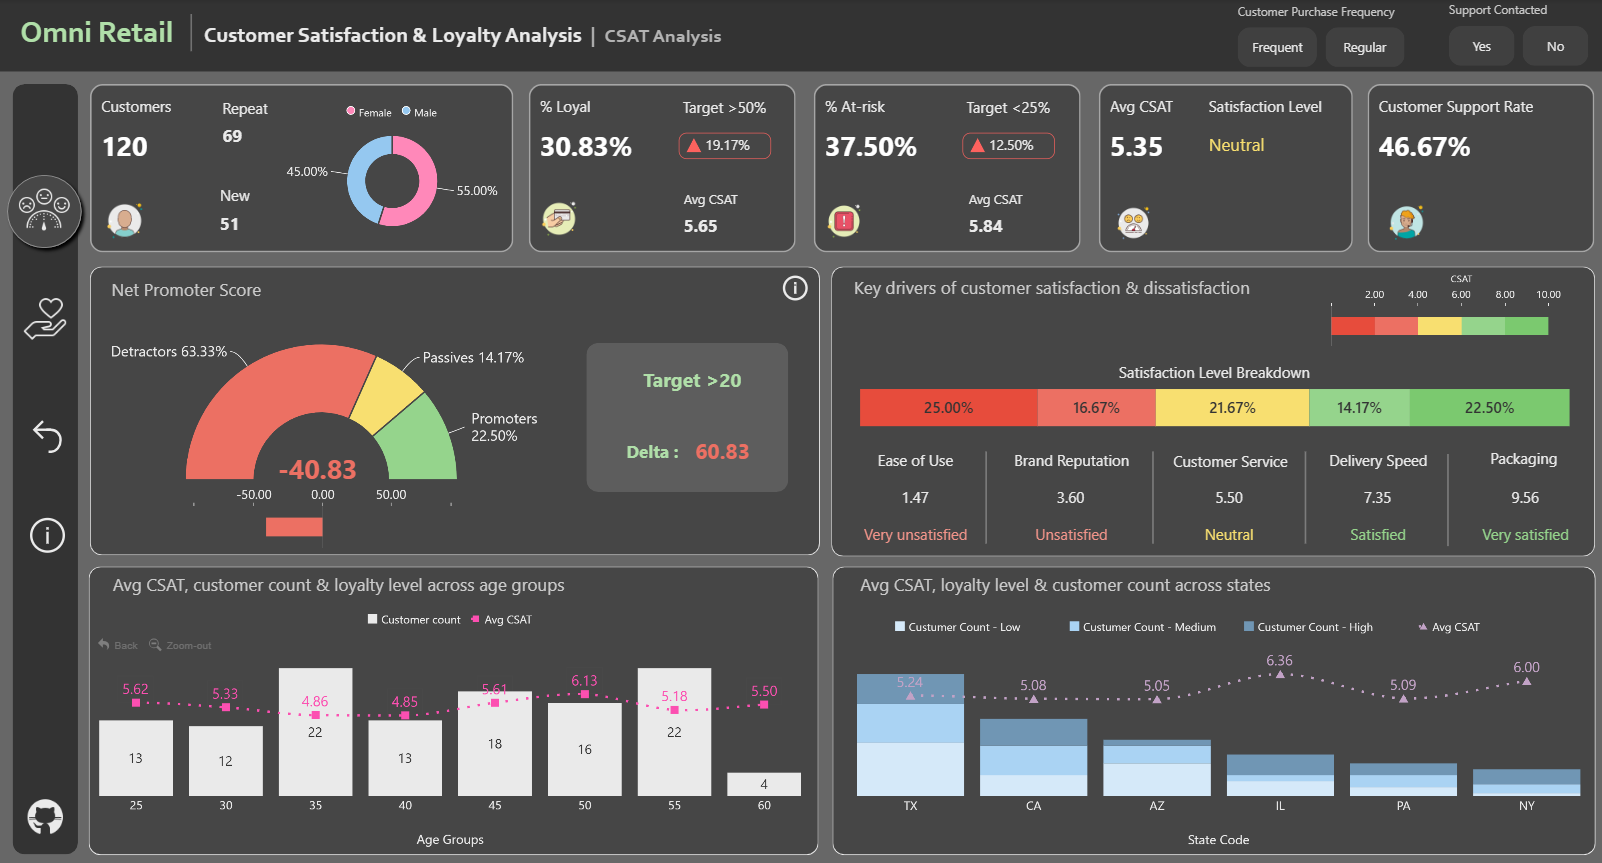

The page's visual inventory and layout, read from the dashboard file:
{"tool":"powerbi","page":{"name":"CSAT Analysis","canvas":[1920,1080],"ordinal":0},"visuals":[{"type":"shape","title":"Header","box":[0,0,1920,90],"z":0},{"type":"cardVisual","fields":{"Data":["_KPIs.avg_statisfaction_score"]},"box":[1278.4,105.7,317.9,210],"z":0,"group":"g7"},{"type":"cardVisual","title":"Customer Support Rate ","fields":{"Data":["_KPIs.customer_support_rate"]},"box":[1614.6,105.7,283.6,210],"z":0,"group":"g13"},{"type":"cardVisual","fields":{"Data":["_KPIs.customer_count"]},"box":[20.3,105.8,528.3,210],"z":0,"group":"g1"},{"type":"cardVisual","fields":{"Data":["_KPIs.at-risk %"]},"box":[923.3,105.9,333.3,210],"z":0,"group":"g6"},{"type":"cardVisual","fields":{"Data":["_KPIs.loyal %"]},"box":[568.6,106.2,333.3,210],"z":0,"group":"g3"},{"type":"textbox","box":[1108.1,117.6,125,45],"z":0,"group":"g2"},{"type":"textbox","box":[755.6,117.9,125,45],"z":0,"group":"g4"},{"type":"shape","box":[945.9,332.7,952.5,361.7],"z":0,"group":"g10"},{"type":"shape","box":[20.4,333.6,910.3,360.1],"z":0,"group":"g9"},{"type":"cardVisual","fields":{"Data":["Min(Customer Satisfaction.Satisfaction_Factor)"]},"box":[963.5,535,175.2,69.5],"z":0,"group":"g8"},{"type":"shape","box":[1117.5,564.1,43.4,114.8],"z":0,"group":"g5"},{"type":"shape","box":[20,706.7,910,360],"z":0,"group":"g11"},{"type":"shape","box":[946.7,706.7,951.7,360],"z":0,"group":"g12"},{"type":"textbox","title":"Omni Retail","box":[20,13.3,276.7,65],"z":1000},{"type":"cardVisual","fields":{"Data":["_KPIs.Avg_Satisfaction_Level"]},"box":[1415.1,105.7,180,103.3],"z":1000,"group":"g7"},{"type":"card","fields":{"Values":["_KPIs.at-risk target display"]},"box":[1108.1,166.8,115.5,32.7],"z":1000,"group":"g2"},{"type":"card","fields":{"Values":["_KPIs.loyalty target display"]},"box":[755.6,168.5,115.5,32.7],"z":1000,"group":"g4"},{"type":"cardVisual","fields":{"Data":["_KPIs.new_cust_count"]},"box":[165.1,212.5,120,98.3],"z":1000,"group":"g1"},{"type":"cardVisual","fields":{"Data":["_KPIs.at-risk_avg_csat"]},"box":[1099.5,222,116.7,88.3],"z":1000,"group":"g6"},{"type":"cardVisual","fields":{"Data":["_KPIs.loyal_avg_satisfaction"]},"box":[745.1,222.3,116.7,88.3],"z":1000,"group":"g3"},{"type":"image","box":[1622,246.2,80,63.3],"z":1000,"group":"g13"},{"type":"ZoomChartsPieChartPaidE77E4ED357DC402ABA005987437CF500","fields":{"Values":["_KPIs.customer_count"],"Category":["Customer Category.Customer Category"],"tooltipContent":["All Measures.avg_statisfaction_score"]},"box":[20.3,355,576.8,320.5],"z":1000,"group":"g9"},{"type":"hundredPercentStackedBarChart","fields":{"Y":["_KPIs.customer_count"],"Series":["satisfaction_order.satisfaction_level"]},"box":[977.1,410.6,894.8,191.7],"z":1000,"group":"g10"},{"type":"cardVisual","fields":{"Data":["Min(Customer Satisfaction.Satisfaction_Factor)"]},"box":[1143.7,535,203.5,69.5],"z":1000,"group":"g8"},{"type":"shape","box":[1326,564.1,41.7,114.8],"z":1000,"group":"g5"},{"type":"ZoomChartsFacetChartPaidE77E4ED357DC402ABA005987437CF500","fields":{"Values1":["_KPIs.customer_count"],"Category":["Customer Satisfaction.Age (bins)","Loyalty Level.Loyalty level"],"Values2":["_KPIs.avg_statisfaction_score"],"tooltipContent":["_KPIs.avg_statisfaction_score"]},"box":[18.3,755.6,905,306.7],"z":1000,"group":"g11"},{"type":"ZoomChartsFacetChartPaidE77E4ED357DC402ABA005987437CF500","fields":{"Values1":["_KPIs.customer_count"],"Category":["Location.State"],"Values2":["_KPIs.avg_statisfaction_score"],"Legend":["Loyalty Level.Loyalty level"],"tooltipContent":["_KPIs.avg_statisfaction_score"]},"box":[961.7,765,931.7,298.3],"z":1000,"group":"g12"},{"type":"group","id":"g1","title":"Customer","box":[20.3,105.5,528.3,210.3],"z":2000},{"type":"cardVisual","fields":{"Data":["_KPIs.repeat_cust_count"]},"box":[168.6,105.5,116.4,89.1],"z":2000,"group":"g1"},{"type":"group","id":"g2","title":"Target group","box":[1108.1,117.6,125,81.9],"z":2000,"group":"g6"},{"type":"shape","box":[764.7,173.9,19.1,18.2],"z":2000,"group":"g4"},{"type":"shape","box":[1117.2,174.1,19.1,18.2],"z":2000,"group":"g2"},{"type":"image","box":[575.3,237.9,63.3,75],"z":2000,"group":"g3"},{"type":"image","box":[1285.7,248.4,71.2,60],"z":2000,"group":"g7"},{"type":"textbox","box":[1284.4,447,279,39],"z":2000,"group":"g10"},{"type":"cardVisual","fields":{"Data":["Min(Customer Satisfaction.Satisfaction_Factor)"]},"box":[1356.9,535,176,71],"z":2000,"group":"g8"},{"type":"shape","box":[1516.2,564.1,41.7,114.8],"z":2000,"group":"g5"},{"type":"textbox","box":[976.7,710,620,65],"z":2000,"group":"g12"},{"type":"textbox","box":[32,710.4,606.7,65],"z":2000,"group":"g11"},{"type":"group","id":"g3","title":"Loyal %","box":[568.6,106.2,333.3,210],"z":3000},{"type":"group","id":"g4","title":"Target group","box":[755.6,117.9,125,83.3],"z":3000,"group":"g3"},{"type":"image","box":[32,237.9,65,76.7],"z":3000,"group":"g1"},{"type":"image","box":[930.3,246.2,63.3,61.7],"z":3000,"group":"g6"},{"type":"textbox","box":[42.6,343,368.4,56.9],"z":3000,"group":"g9"},{"type":"cardVisual","fields":{"Data":["Min(Customer Satisfaction.Satisfaction_Factor)"]},"box":[1542.3,535,173.5,69.5],"z":3000,"group":"g8"},{"type":"group","id":"g5","title":"Vertical Lines","box":[1117.5,564.1,618.9,117.8],"z":3000,"group":"g10"},{"type":"shape","box":[1694.7,567.1,41.7,114.8],"z":3000,"group":"g5"},{"type":"group","id":"g6","title":"At-risk","box":[923.3,105.9,333.3,210],"z":4000},{"type":"ZoomChartsPieChartPaidE77E4ED357DC402ABA005987437CF500","fields":{"Values":["_KPIs.customer_count"],"Category":["Customer Demographics.Gender"]},"box":[257,122.9,280,180],"z":4000,"group":"g1"},{"type":"textbox","box":[969.6,338.9,585.5,67.8],"z":4000,"group":"g10"},{"type":"cardVisual","fields":{"Data":["Min(Customer Satisfaction.Satisfaction_Factor)"]},"box":[1728,535,165.3,65.4],"z":4000,"group":"g8"},{"type":"ZoomChartsDrillDownComboBarProE77E4ED357DC402ABA005987437CF8","fields":{"Values1":["_KPIs.NPS"]},"box":[113.3,603,373.4,87],"z":4000,"group":"g9"},{"type":"group","id":"g7","title":"Avg CSAT","box":[1278.4,105.7,317.9,210],"z":5000},{"type":"group","id":"g8","title":"Satisfaction Factor","box":[963.5,535,932.5,158.8],"z":5000,"group":"g10"},{"type":"card","fields":{"Values":["_KPIs.NPS"]},"box":[237,550,135,70.6],"z":5000,"group":"g9"},{"type":"cardVisual","fields":{"Data":["_KPIs.avg_statisfaction_score"]},"box":[1729.2,583,166.8,64.3],"z":5000,"group":"g8"},{"type":"image","box":[622,438,280.6,227.6],"z":5500,"group":"g9"},{"type":"group","id":"g9","title":"NPS","box":[20.3,333.6,910.4,360.1],"z":6000},{"type":"textbox","box":[963.5,648.6,176.8,45.2],"z":6000,"group":"g8"},{"type":"group","id":"g10","title":"Satisfaction group","box":[945.9,332.7,952.5,361.7],"z":7000},{"type":"textbox","box":[1143.7,648.6,203.5,45.2],"z":7000,"group":"g8"},{"type":"shape","title":"Grey divider","box":[245,21.7,43.3,46.7],"z":8000},{"type":"textbox","box":[1352.2,648.6,181.8,45.2],"z":8000,"group":"g8"},{"type":"textbox","title":"Report Title","box":[283.3,21.7,825,56.7],"z":9000},{"type":"textbox","box":[1542.3,648.6,173.5,45.2],"z":9000,"group":"g8"},{"type":"actionButton","title":"Info","box":[1835,23.3,65,50],"z":10000},{"type":"textbox","box":[1729.2,648.6,166.8,45.2],"z":10000,"group":"g8"},{"type":"actionButton","title":"Reset","box":[1756.7,23.3,63.3,46.7],"z":11000},{"type":"cardVisual","fields":{"Data":["_KPIs.avg_statisfaction_score"]},"box":[1540.7,583,175.2,64.3],"z":11000,"group":"g8"},{"type":"advancedSlicerVisual","title":"Customer Purchase Frequency","fields":{"Values":["Customer Satisfaction.Purchase_Frequency"]},"box":[1140.1,4.9,282.2,78.3],"z":12000},{"type":"cardVisual","fields":{"Data":["_KPIs.avg_statisfaction_score"]},"box":[1350.5,583,185.2,64.3],"z":12000,"group":"g8"},{"type":"cardVisual","fields":{"Data":["_KPIs.avg_statisfaction_score"]},"box":[1143.7,583,201.8,64.3],"z":13000,"group":"g8"},{"type":"group","id":"g11","title":"Avg CSAT-Age Groups","box":[18.3,706.7,911.7,360],"z":13000},{"type":"cardVisual","fields":{"Data":["_KPIs.avg_statisfaction_score"]},"box":[963.5,583,175.2,64.3],"z":14000,"group":"g8"},{"type":"group","id":"g12","title":"Loyalty-State","box":[946.7,706.7,951.7,360],"z":14000},{"type":"group","id":"g13","title":"Customer Support Rate","box":[1614.6,105.7,283.6,210],"z":15000},{"type":"advancedSlicerVisual","title":"Support Contacted","fields":{"Values":["Customer Satisfaction.Support_Contacted"]},"box":[1446.7,5,280,78.3],"z":15500},{"type":"ZoomChartsDrillDownComboBarProE77E4ED357DC402ABA005987437CF8","title":"CSAT Scale 2","fields":{"Values1":["Count(Customer Satisfaction.Satisfaction_Score)"],"Legend":["satisfaction_order.satisfaction_level"]},"box":[1563.6,332,335.2,106],"z":16000},{"type":"ZoomChartsDrillDownComboBarProE77E4ED357DC402ABA005987437CF8","title":"CSAT Scale 1","fields":{"Values1":["Count(Customer Satisfaction.Satisfaction_Score)"],"Legend":["Customer Category.Customer Category"]},"box":[606.4,333.6,324.3,104.4],"z":17000}]}

Visuals, with their boxes on the page's 1920x1080 design canvas (x1, y1, x2, y2). These are canvas units, not pixel positions in the 1602x863 screenshot, which may show the page scaled, cropped or inside an application window:
"Header" shape: (0,0,1920,90)
cardVisual - _KPIs.avg_statisfaction_score: (1278,106,1596,316)
"Customer Support Rate " cardVisual: (1615,106,1898,316)
cardVisual - _KPIs.customer_count: (20,106,549,316)
cardVisual - _KPIs.at-risk %: (923,106,1257,316)
cardVisual - _KPIs.loyal %: (569,106,902,316)
textbox: (1108,118,1233,163)
textbox: (756,118,881,163)
shape: (946,333,1898,694)
shape: (20,334,931,694)
cardVisual - Min(Customer Satisfaction.Satisfaction_Factor): (964,535,1139,604)
shape: (1118,564,1161,679)
shape: (20,707,930,1067)
shape: (947,707,1898,1067)
"Omni Retail" textbox: (20,13,297,78)
cardVisual - _KPIs.Avg_Satisfaction_Level: (1415,106,1595,209)
card - _KPIs.at-risk target display: (1108,167,1224,200)
card - _KPIs.loyalty target display: (756,168,871,201)
cardVisual - _KPIs.new_cust_count: (165,212,285,311)
cardVisual - _KPIs.at-risk_avg_csat: (1100,222,1216,310)
cardVisual - _KPIs.loyal_avg_satisfaction: (745,222,862,311)
image: (1622,246,1702,310)
ZoomChartsPieChartPaidE77E4ED357DC402ABA005987437CF500 - _KPIs.customer_count x Customer Category.Customer Category: (20,355,597,676)
hundredPercentStackedBarChart - _KPIs.customer_count x satisfaction_order.satisfaction_level: (977,411,1872,602)
cardVisual - Min(Customer Satisfaction.Satisfaction_Factor): (1144,535,1347,604)
shape: (1326,564,1368,679)
ZoomChartsFacetChartPaidE77E4ED357DC402ABA005987437CF500 - _KPIs.customer_count x Customer Satisfaction.Age (bins): (18,756,923,1062)
ZoomChartsFacetChartPaidE77E4ED357DC402ABA005987437CF500 - _KPIs.customer_count x Location.State: (962,765,1893,1063)
"Customer" group: (20,106,549,316)
cardVisual - _KPIs.repeat_cust_count: (169,106,285,195)
"Target group" group: (1108,118,1233,200)
shape: (765,174,784,192)
shape: (1117,174,1136,192)
image: (575,238,639,313)
image: (1286,248,1357,308)
textbox: (1284,447,1563,486)
cardVisual - Min(Customer Satisfaction.Satisfaction_Factor): (1357,535,1533,606)
shape: (1516,564,1558,679)
textbox: (977,710,1597,775)
textbox: (32,710,639,775)
"Loyal %" group: (569,106,902,316)
"Target group" group: (756,118,881,201)
image: (32,238,97,315)
image: (930,246,994,308)
textbox: (43,343,411,400)
cardVisual - Min(Customer Satisfaction.Satisfaction_Factor): (1542,535,1716,604)
"Vertical Lines" group: (1118,564,1736,682)
shape: (1695,567,1736,682)
"At-risk" group: (923,106,1257,316)
ZoomChartsPieChartPaidE77E4ED357DC402ABA005987437CF500 - _KPIs.customer_count x Customer Demographics.Gender: (257,123,537,303)
textbox: (970,339,1555,407)
cardVisual - Min(Customer Satisfaction.Satisfaction_Factor): (1728,535,1893,600)
ZoomChartsDrillDownComboBarProE77E4ED357DC402ABA005987437CF8 - _KPIs.NPS: (113,603,487,690)
"Avg CSAT" group: (1278,106,1596,316)
"Satisfaction Factor" group: (964,535,1896,694)
card - _KPIs.NPS: (237,550,372,621)
cardVisual - _KPIs.avg_statisfaction_score: (1729,583,1896,647)
image: (622,438,903,666)
"NPS" group: (20,334,931,694)
textbox: (964,649,1140,694)
"Satisfaction group" group: (946,333,1898,694)
textbox: (1144,649,1347,694)
"Grey divider" shape: (245,22,288,68)
textbox: (1352,649,1534,694)
"Report Title" textbox: (283,22,1108,78)
textbox: (1542,649,1716,694)
"Info" actionButton: (1835,23,1900,73)
textbox: (1729,649,1896,694)
"Reset" actionButton: (1757,23,1820,70)
cardVisual - _KPIs.avg_statisfaction_score: (1541,583,1716,647)
"Customer Purchase Frequency" advancedSlicerVisual: (1140,5,1422,83)
cardVisual - _KPIs.avg_statisfaction_score: (1350,583,1536,647)
cardVisual - _KPIs.avg_statisfaction_score: (1144,583,1346,647)
"Avg CSAT-Age Groups" group: (18,707,930,1067)
cardVisual - _KPIs.avg_statisfaction_score: (964,583,1139,647)
"Loyalty-State" group: (947,707,1898,1067)
"Customer Support Rate" group: (1615,106,1898,316)
"Support Contacted" advancedSlicerVisual: (1447,5,1727,83)
"CSAT Scale 2" ZoomChartsDrillDownComboBarProE77E4ED357DC402ABA005987437CF8: (1564,332,1899,438)
"CSAT Scale 1" ZoomChartsDrillDownComboBarProE77E4ED357DC402ABA005987437CF8: (606,334,931,438)
